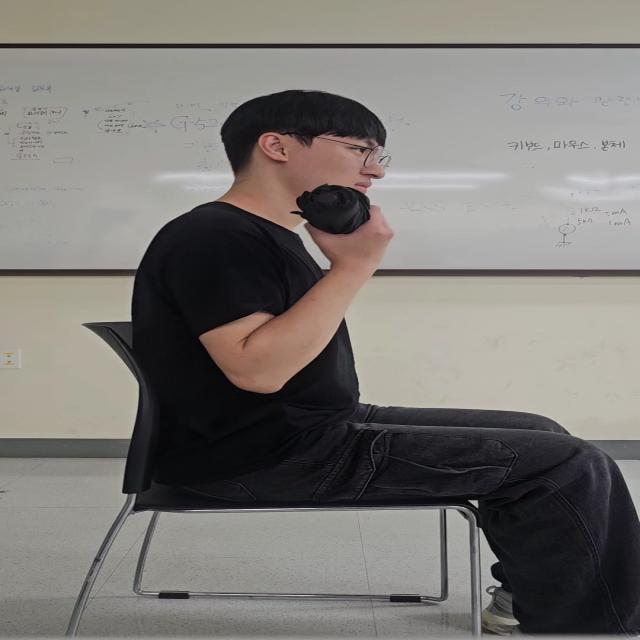curl: (180, 198, 400, 398)
